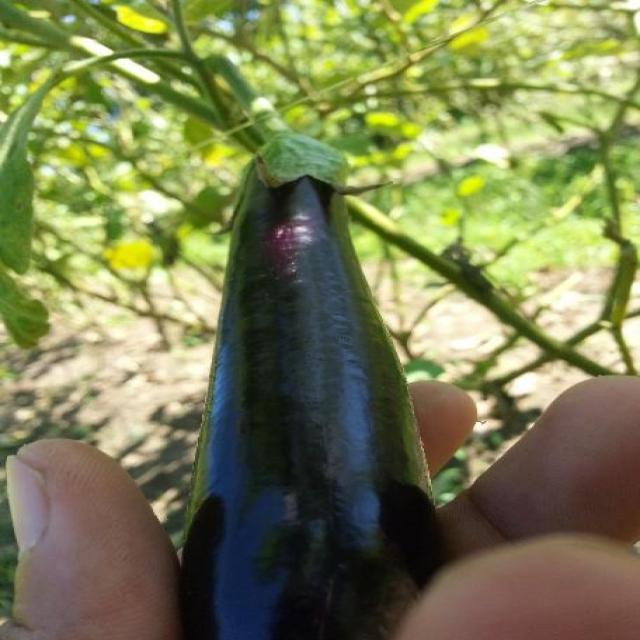eggplant: (175, 118, 454, 640)
